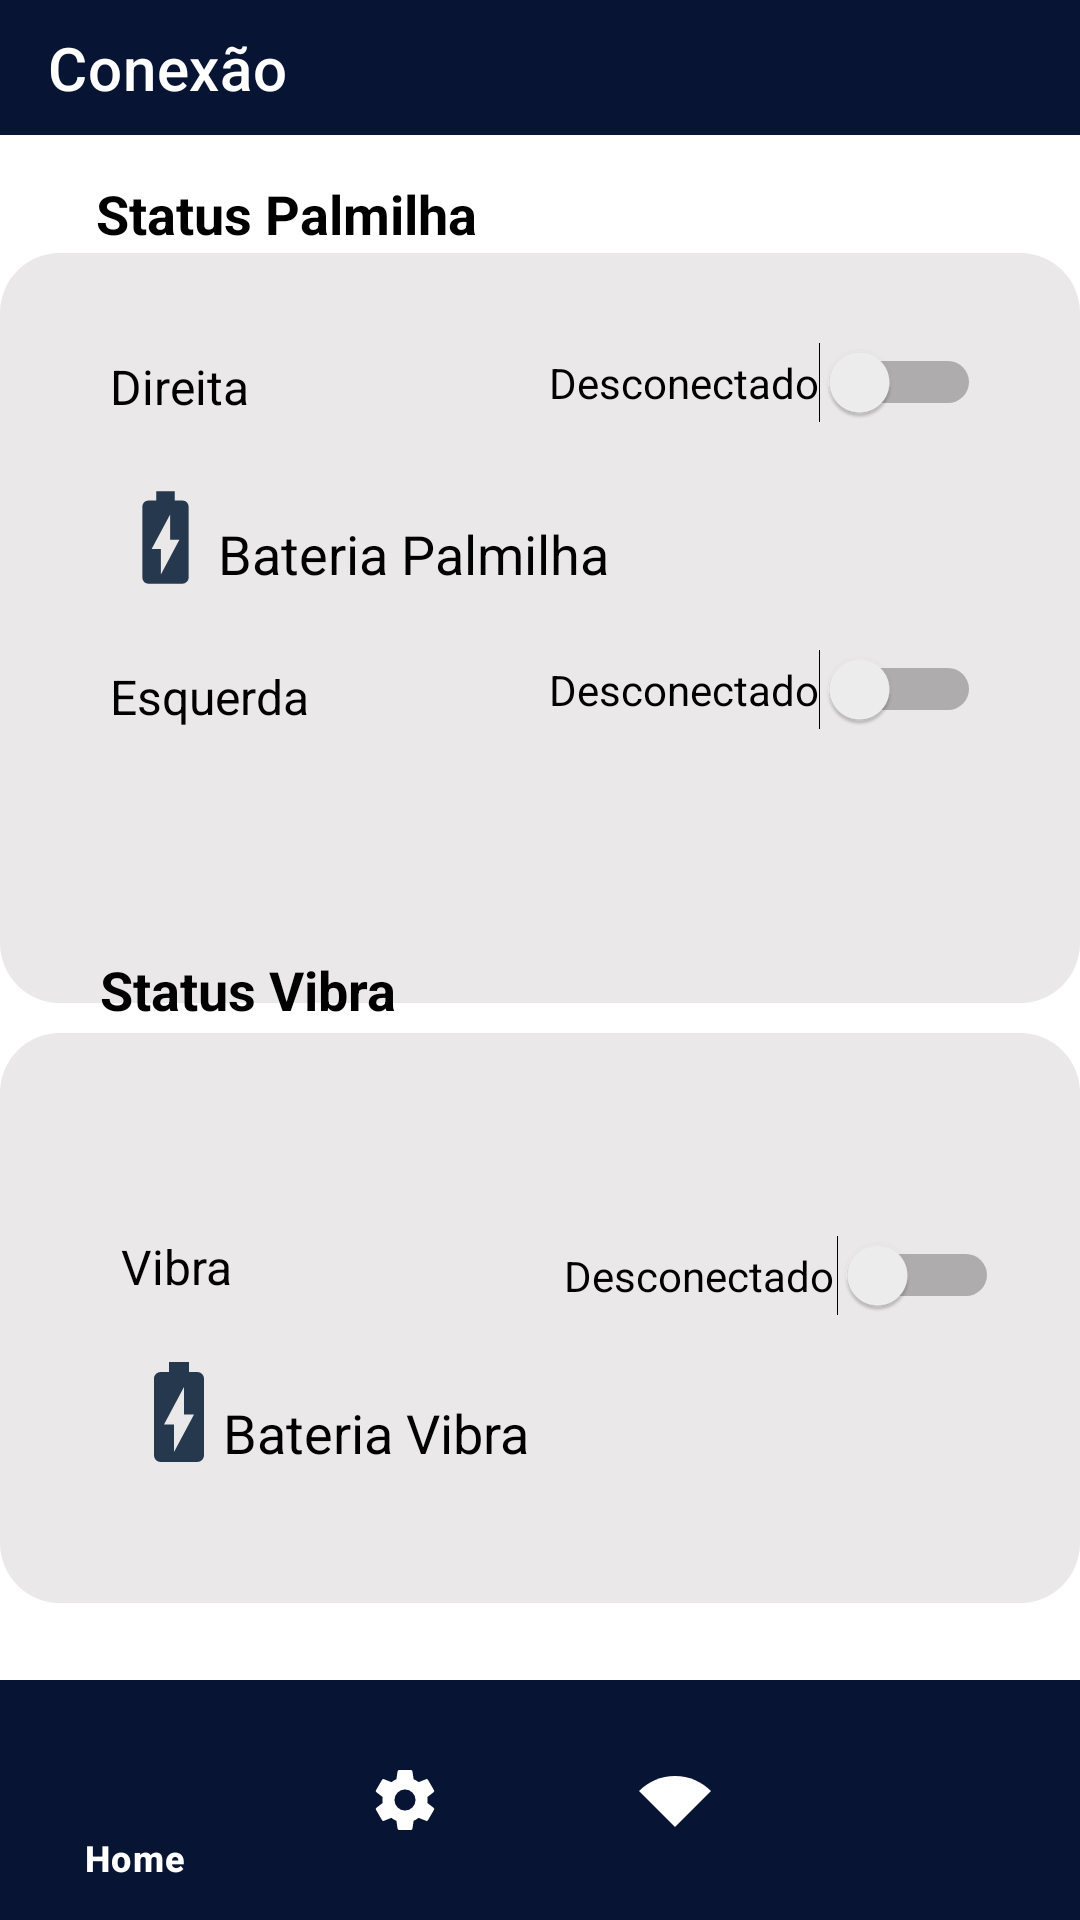

Icon click points for this 1080 x 1920 phone screenshot, format (x,y):
battery charging full: (165,537), (179,1412)
